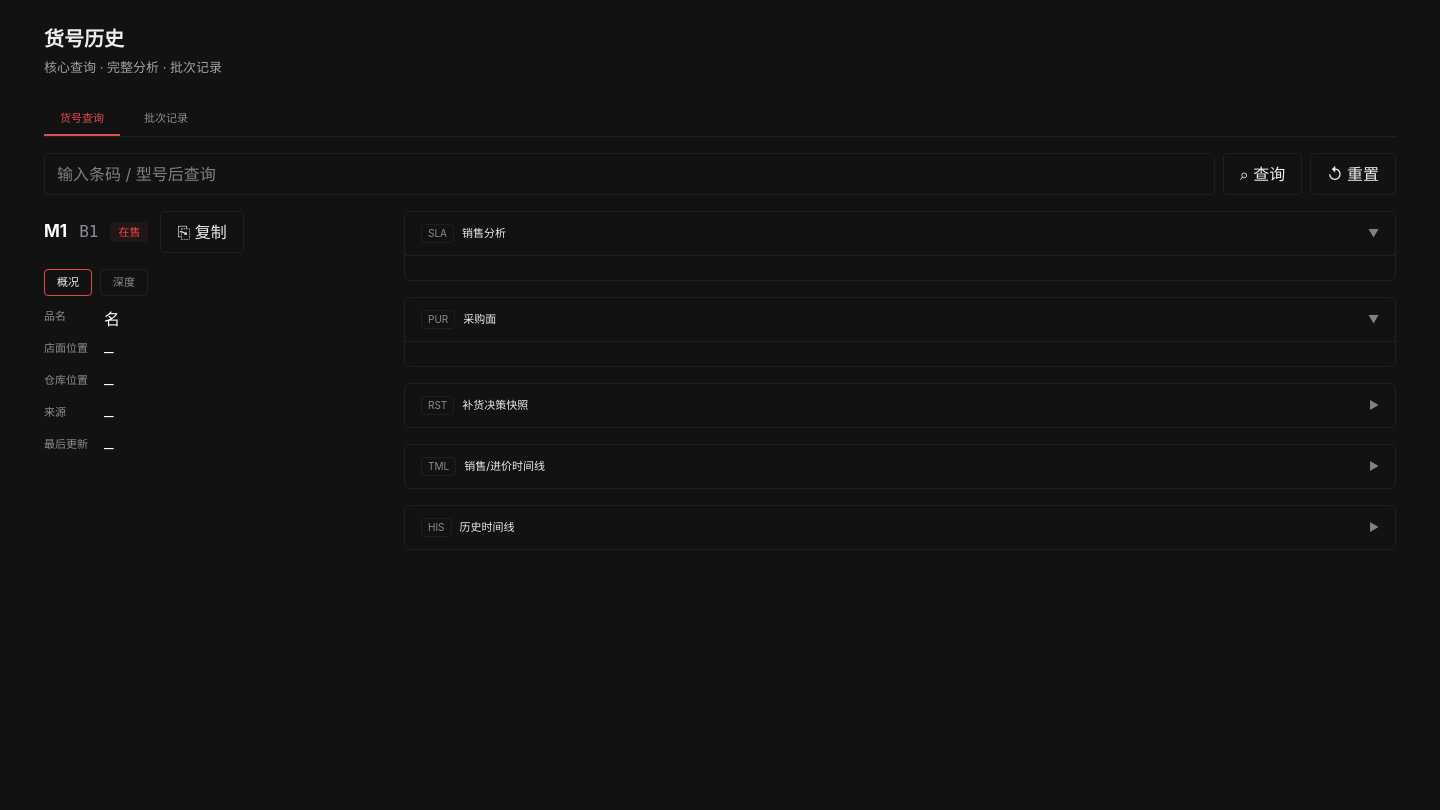
Test: 4b.5: 折叠 toggle 翻转 aria-expanded 与卡身可见性
Click the button with id "sbcard-rst". click: [438, 406]
box: [405,384,1395,427]
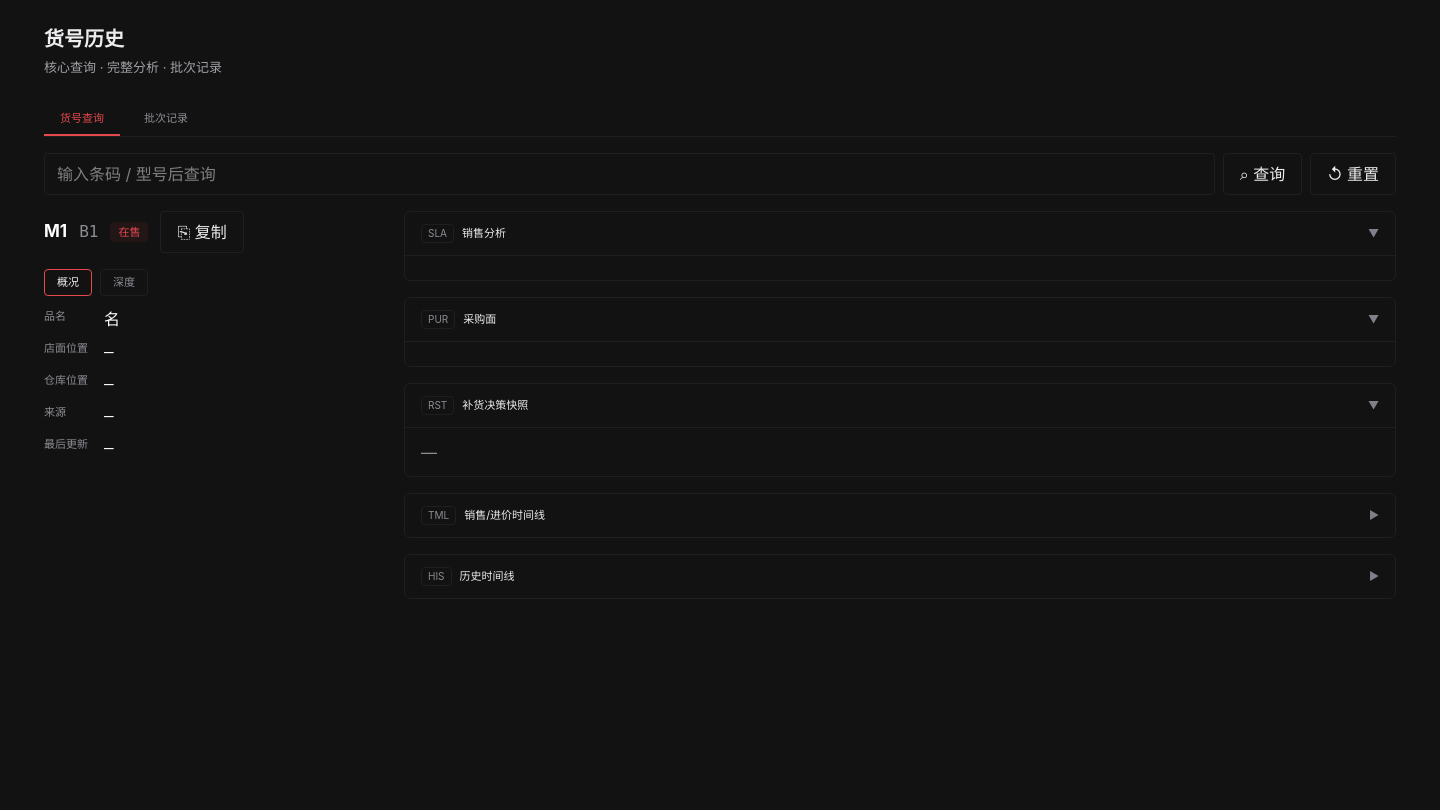
Expected: the button with id "sbcard-rst" is expanded, [405,384,1395,427]
